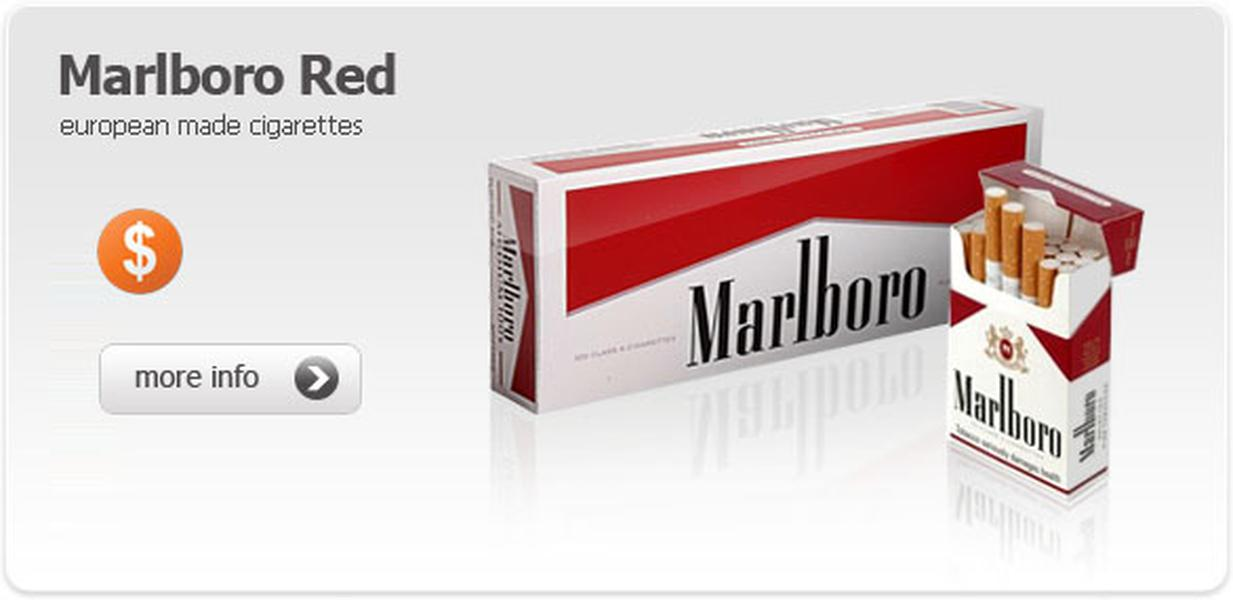marlboro_red: (948, 279, 1076, 453)
